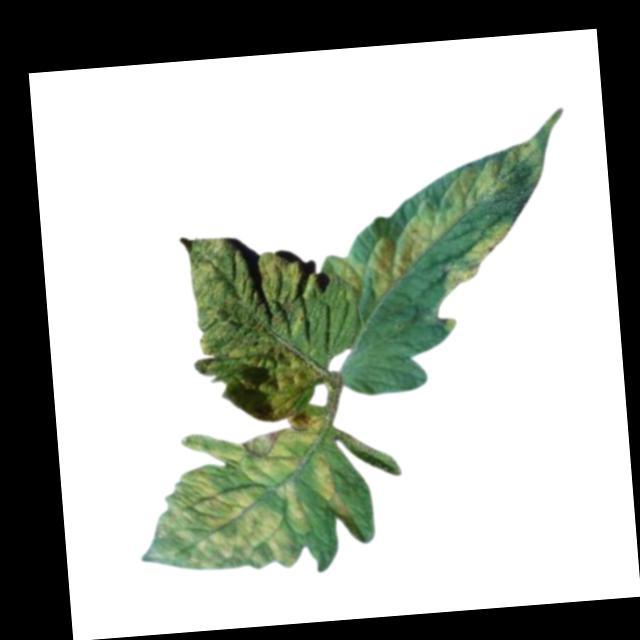Leaf_Mold: (318, 136, 555, 310), (130, 419, 365, 580), (179, 226, 325, 429), (438, 221, 514, 296)
